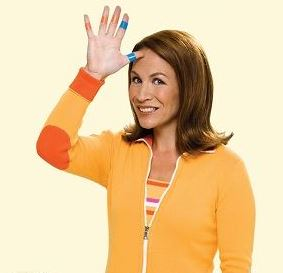dad: (83, 4, 179, 92)
